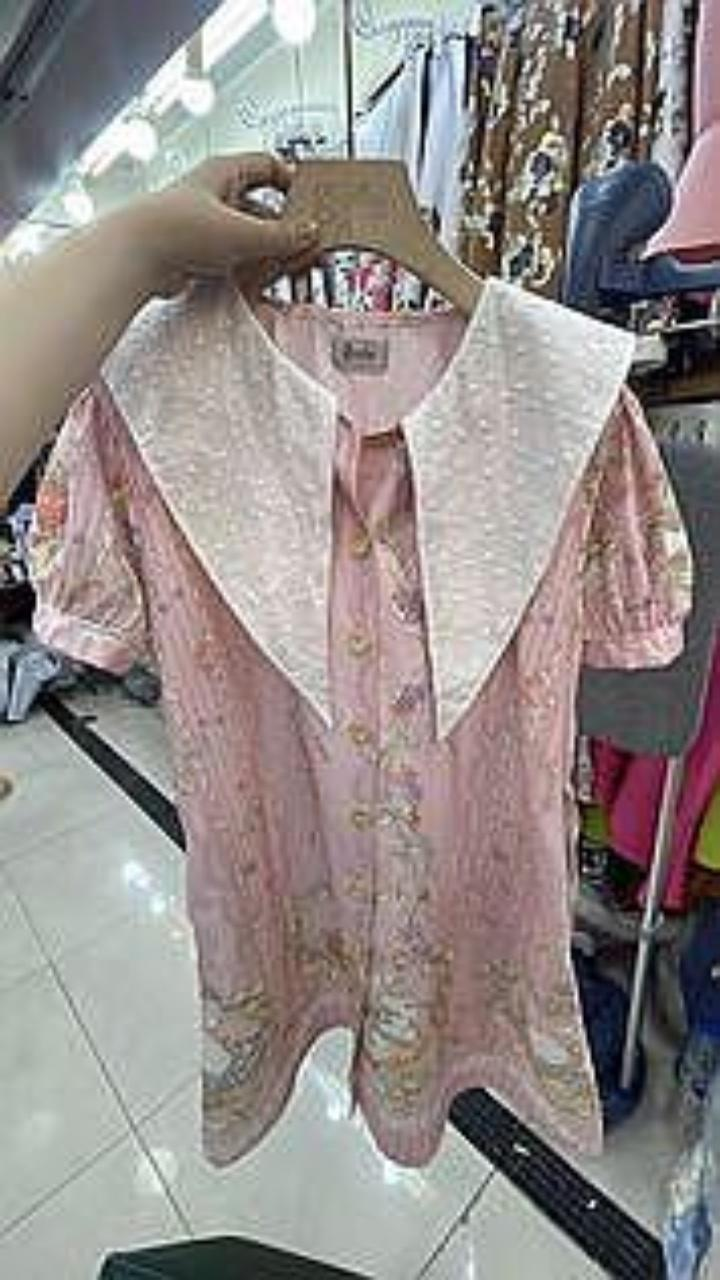Dresses: (35, 281, 687, 1162)
